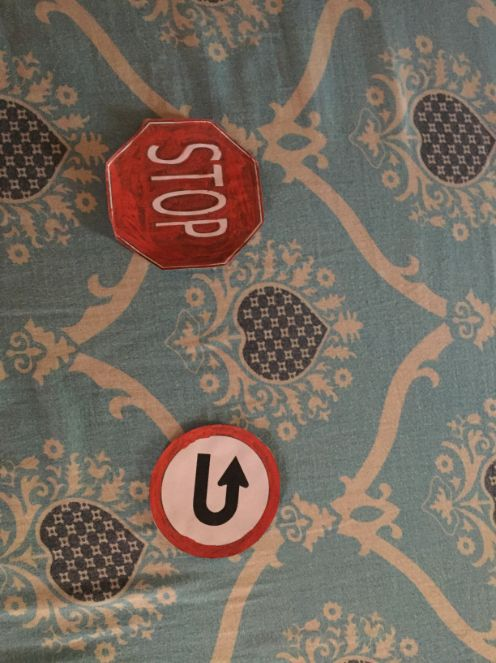stop: (107, 116, 263, 269)
u-turn: (146, 425, 273, 560)
